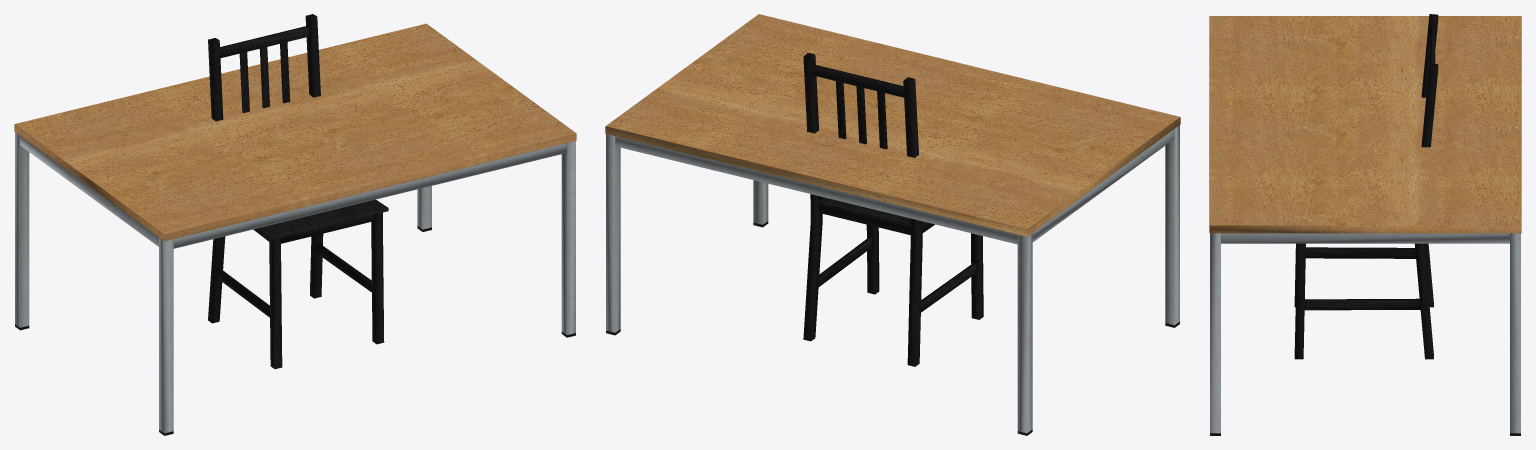
The model's file is tisch_stuhl.fbx.
The picture shows the model from 3 angles, left to right: view 1: azimuth 30°, elevation 25°; view 2: azimuth 150°, elevation 25°; view 3: azimuth 270°, elevation 25°; orthographic projection. The views are drawn at different scales.
Parts seen in each view (by area): view 1: Mesh, Mesh_ncl1_1; view 2: Mesh, Mesh_ncl1_1; view 3: Mesh, Mesh_ncl1_1.
Boxes of the visible parts, bbox=[...] form: Mesh: bbox=[14, 23, 576, 435]; Mesh_ncl1_1: bbox=[208, 14, 388, 369]; Mesh: bbox=[605, 14, 1180, 435]; Mesh_ncl1_1: bbox=[803, 53, 983, 366]; Mesh: bbox=[1209, 16, 1521, 435]; Mesh_ncl1_1: bbox=[1294, 14, 1438, 359].
Size of the model in its own units: 135 by 87.4 by 85.
